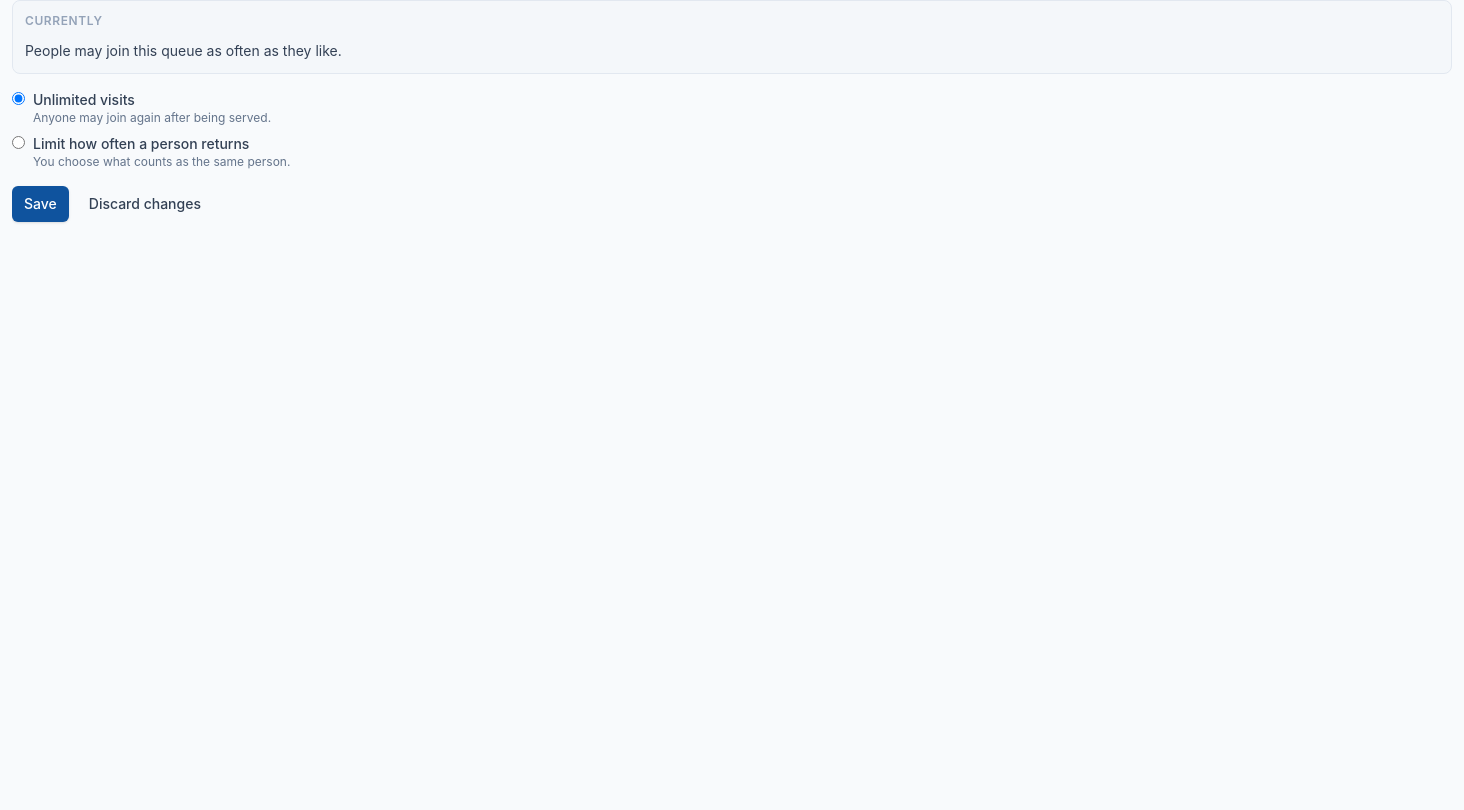
RepeatVisitPolicy › points the operator at the form builder when no question can identify anyone
Click the radio button labelled "Limit how often a person returns".
click(18, 142)  # box 12,136 -> 25,149
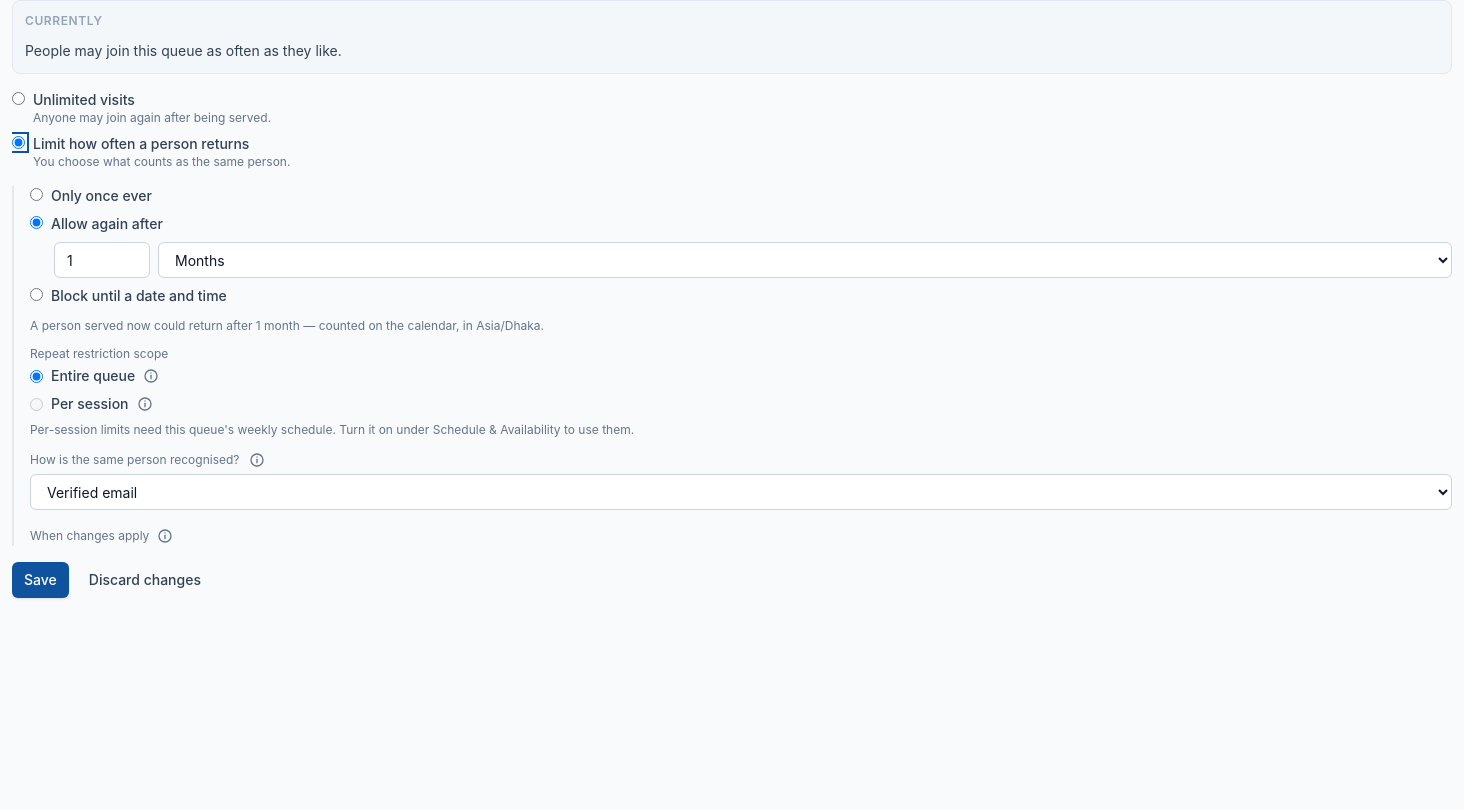
Select "Custom unique field" in the dropdown labelled "How is the same person recognised?" at (741, 492), box 30,474 -> 1452,510
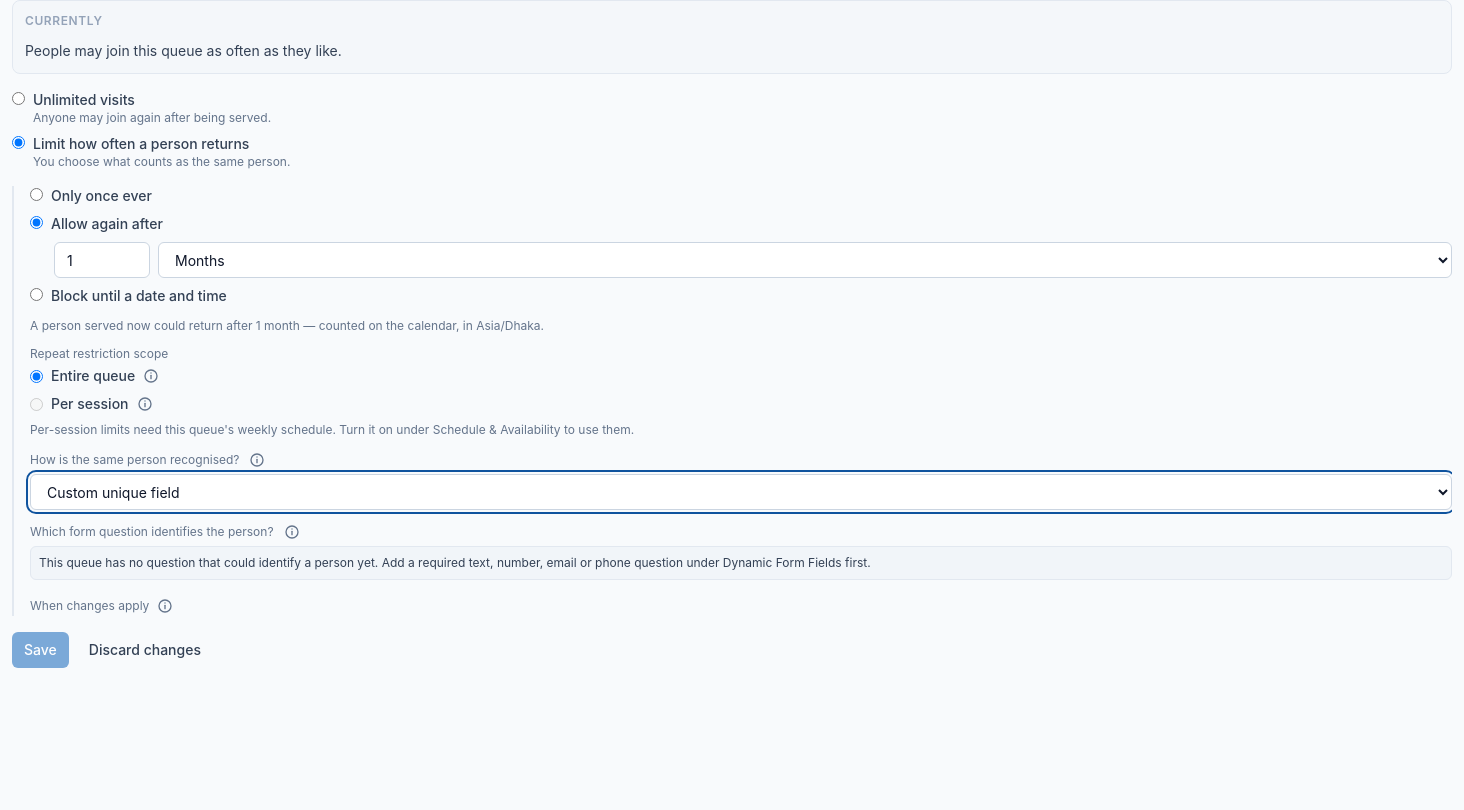
Expected: the text "no question that could identify a person" is shown, 39,555 -> 871,570
Expected: the button "Save" is disabled, 12,632 -> 69,668
